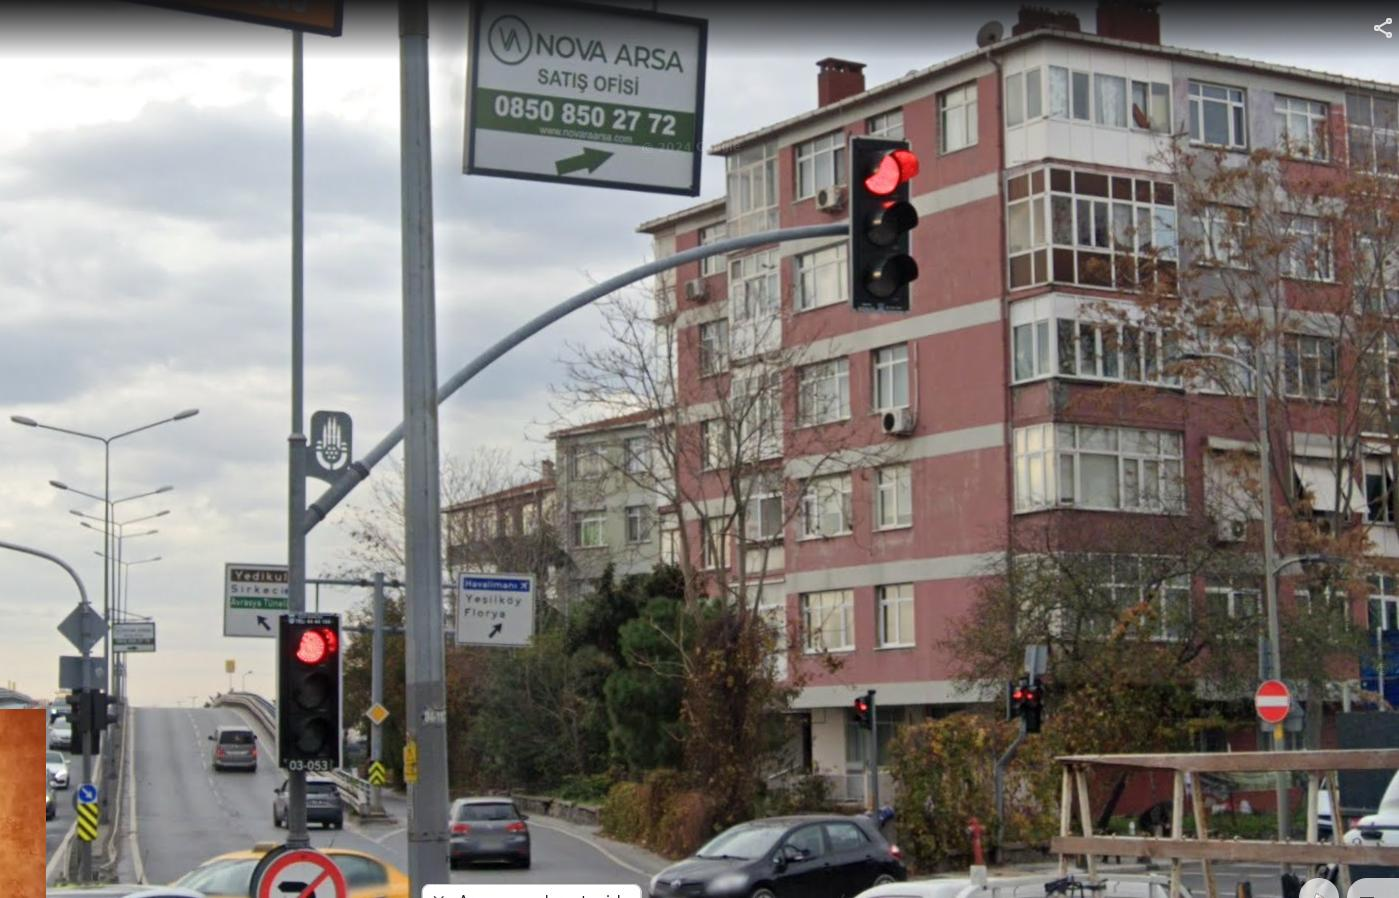redlight: (852, 131, 916, 305), (276, 616, 338, 773)
